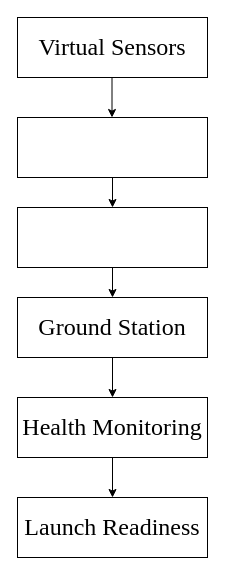
Some shapes in this 225 by 575 pixel diagram are drawn without their labels. Here are the shapes that lost their labels. From the top down, the box of each, then its label:
(16, 116, 208, 178): Flight Computer
(16, 206, 208, 268): Telemetry Engine
